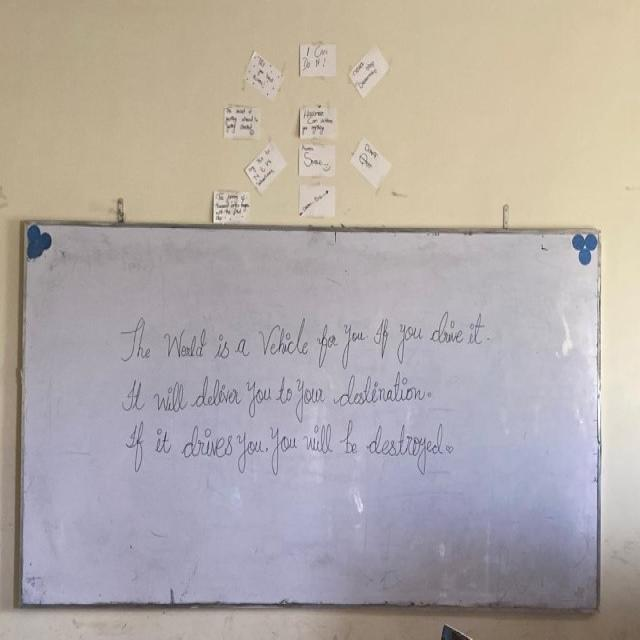White-board: (20, 218, 601, 611)
